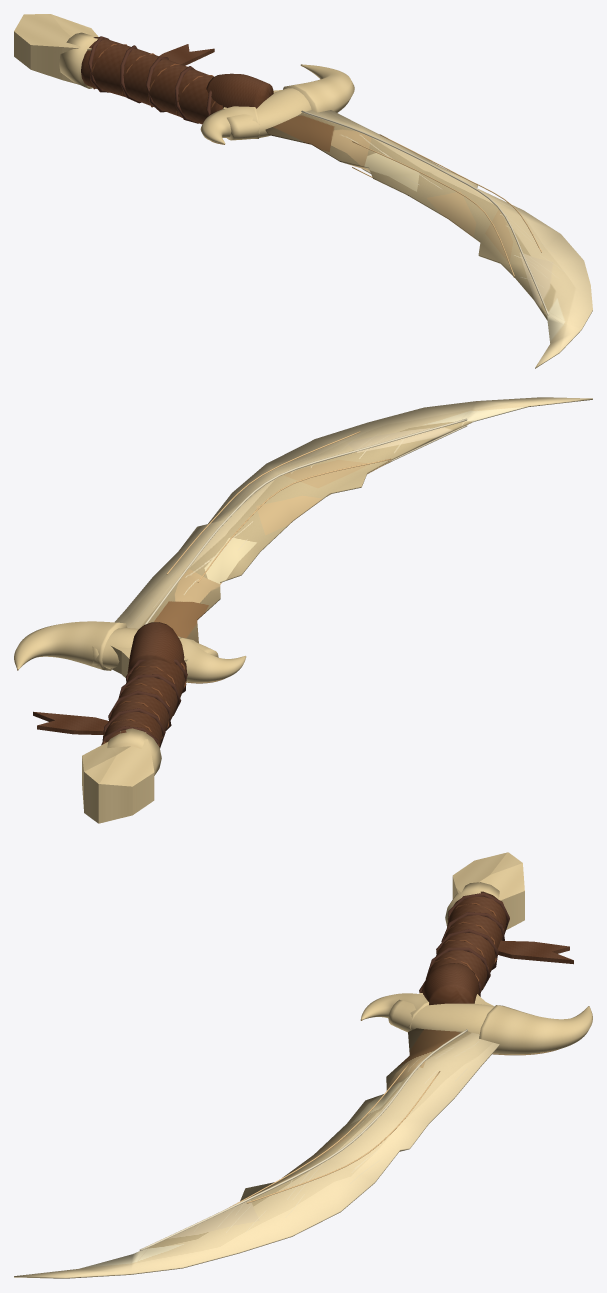
The model's file is tusk_blade.glb.
3 renders of one model, top to bottom at view 1: azimuth 30°, elevation 25°; view 2: azimuth 150°, elevation 25°; view 3: azimuth 330°, elevation 25°, orthographic. The views are drawn at different scales.
Parts seen in each view (by area): view 1: tusk_blade_game_mesh; view 2: tusk_blade_game_mesh; view 3: tusk_blade_game_mesh.
Boxes of the visible parts, left/top/right/bottom form: tusk_blade_game_mesh: left=14, top=14, right=592, bottom=368; tusk_blade_game_mesh: left=14, top=397, right=592, bottom=823; tusk_blade_game_mesh: left=14, top=852, right=592, bottom=1278.
Size of the model in its own units: 0.3137 by 0.0803 by 1.19.
1 material, 1 textured.
